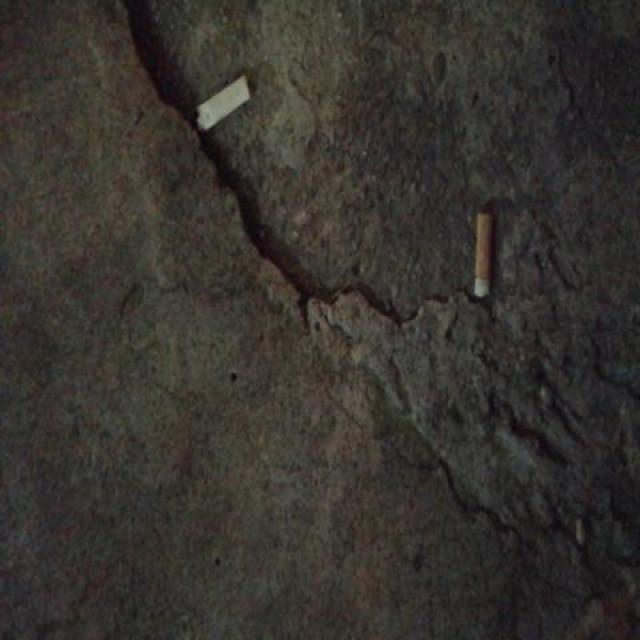non-organic waste: (193, 68, 255, 135), (470, 206, 498, 302)
